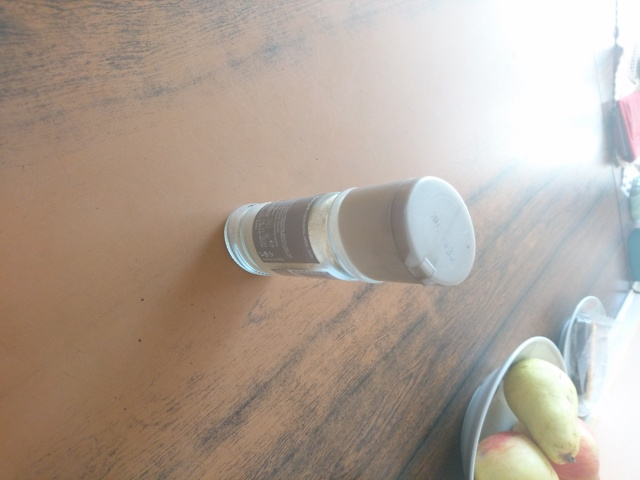Kotanyi Garlic Granules 70g: (219, 173, 480, 289)
